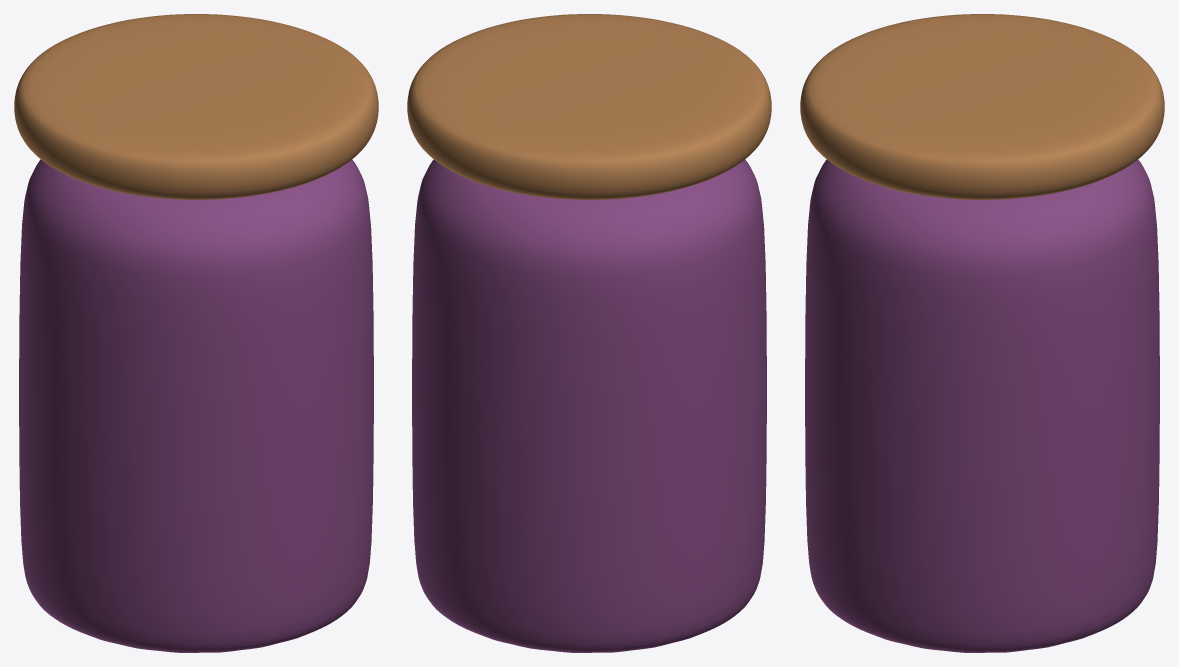
File: boatle.fbx
The picture shows the model from 3 angles, left to right: view 1: azimuth 30°, elevation 25°; view 2: azimuth 150°, elevation 25°; view 3: azimuth 270°, elevation 25°; orthographic projection.
Parts seen in each view (by area): view 1: Bottle; view 2: Bottle; view 3: Bottle.
Part boxes in pixels (x1=…): Bottle: x1=14, y1=14, x2=378, y2=652; Bottle: x1=407, y1=14, x2=771, y2=652; Bottle: x1=800, y1=14, x2=1164, y2=652.
Size of the model in its own units: 20.4 by 31.46 by 20.4.
